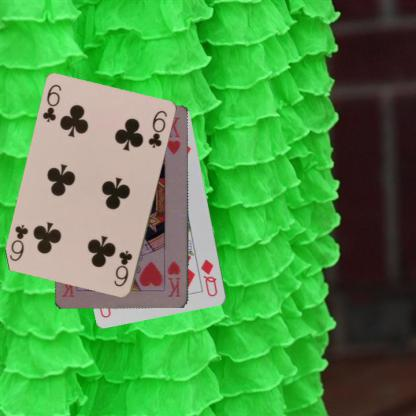6c: (40, 82, 63, 124), (112, 248, 134, 288)
Kh: (165, 258, 182, 298)
Qd: (198, 257, 219, 298)
